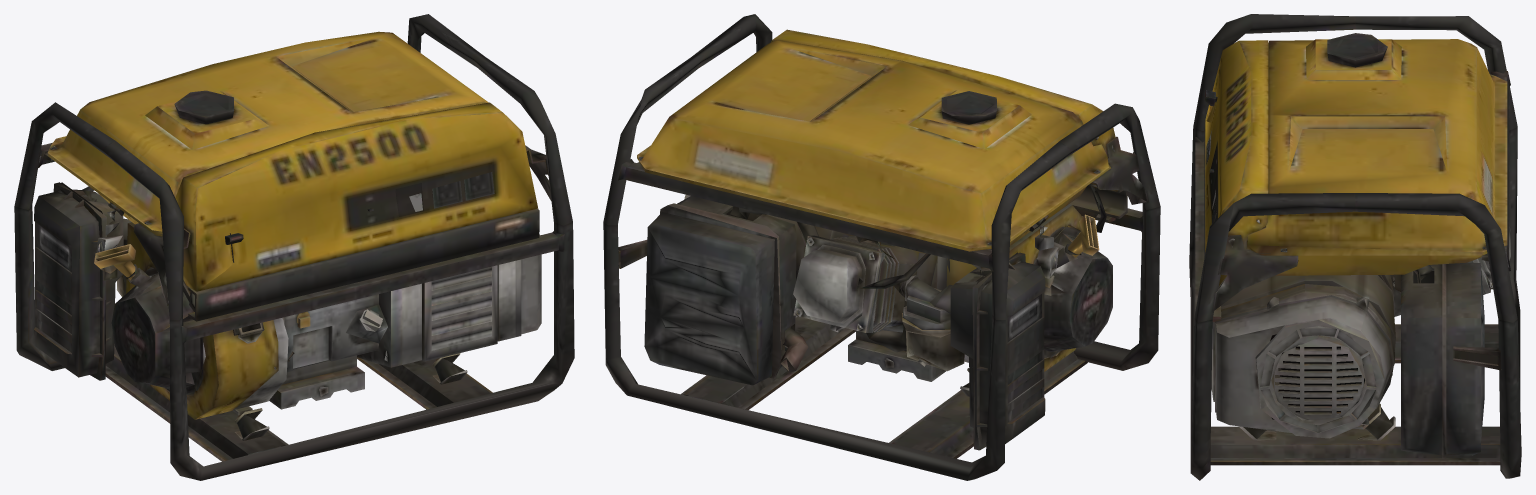
File: portable_generator.glb
3 views of the same model, side by side, from view 1: azimuth 30°, elevation 25°; view 2: azimuth 150°, elevation 25°; view 3: azimuth 270°, elevation 25° (orthographic).
Parts seen in each view (by area): view 1: portable_generator; view 2: portable_generator; view 3: portable_generator.
Boxes of the visible parts, <box> form: portable_generator: <box>14,14,574,480</box>; portable_generator: <box>603,14,1160,480</box>; portable_generator: <box>1189,14,1521,480</box>.
Bounding box in the file's own units: 0.8146 × 0.5752 × 0.564.
Materials: 2 (2 with a texture image).
